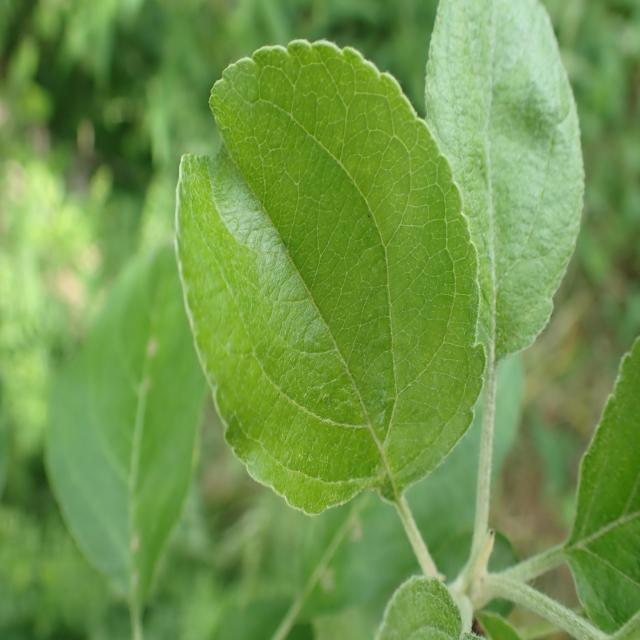healthy: (175, 37, 486, 517), (423, 1, 585, 360), (570, 333, 640, 636), (374, 574, 464, 640)
